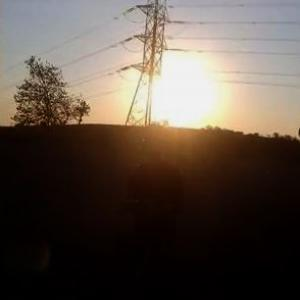follow: (118, 122, 189, 299)
